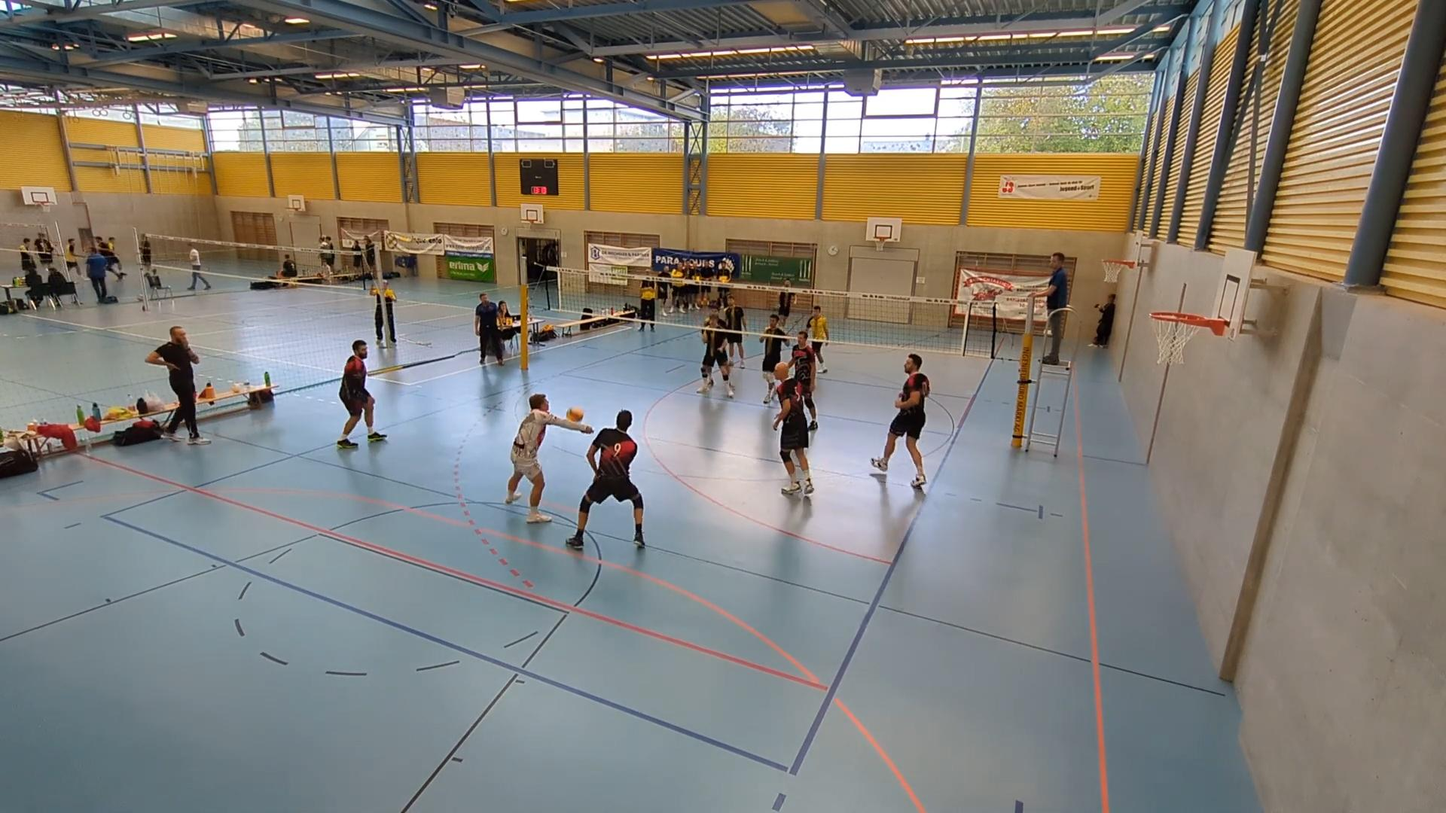ricezione: (500, 387, 595, 527)
